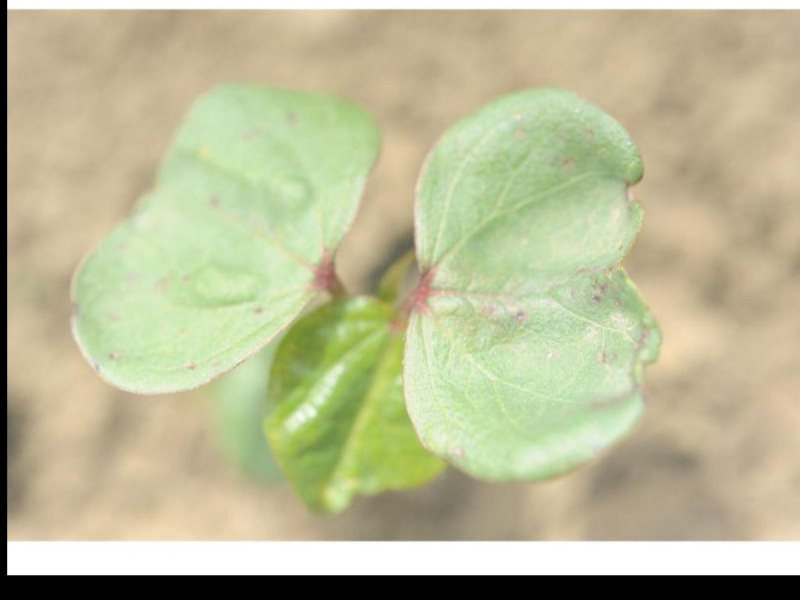cotton: (67, 83, 662, 518)
